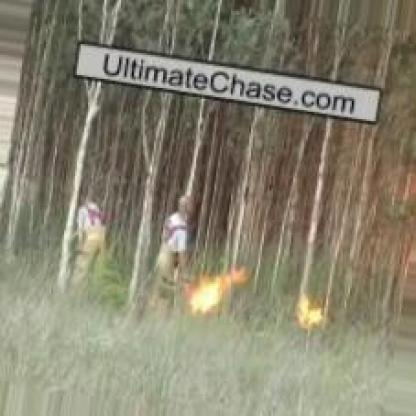fire: (176, 256, 258, 315), (291, 292, 331, 330)
